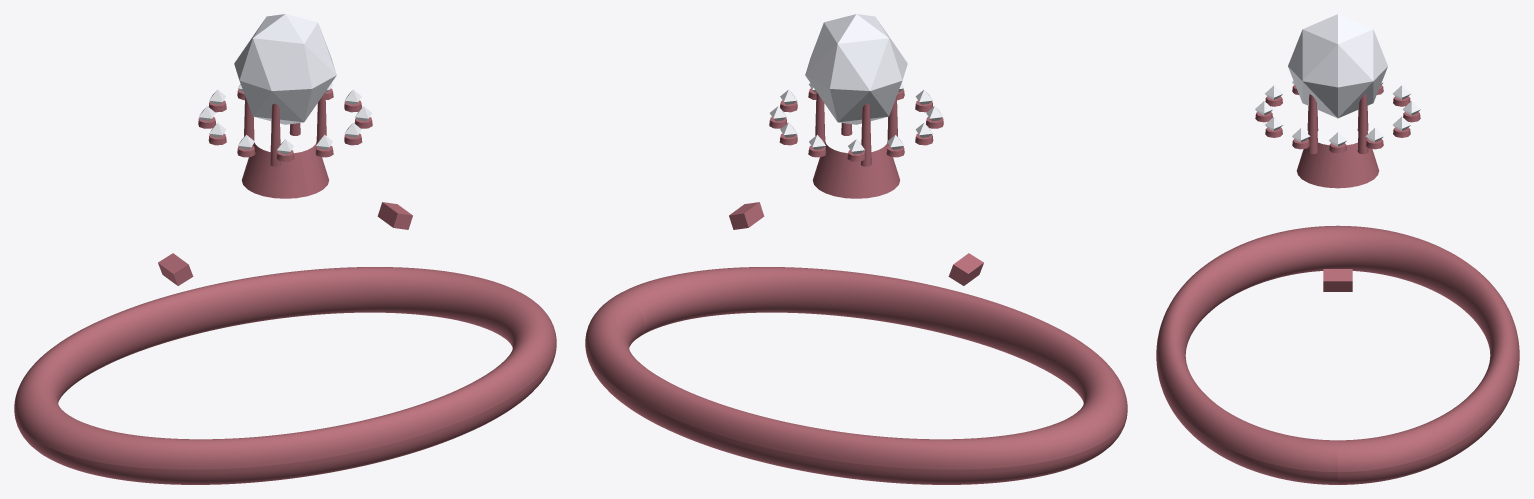
Rendered from ring-halo.glb.
The picture shows the model from 3 angles, left to right: view 1: azimuth 30°, elevation 25°; view 2: azimuth 150°, elevation 25°; view 3: azimuth 270°, elevation 25°; orthographic projection. The views are drawn at different scales.
Size of the model in its own units: 1.87 by 1.35 by 1.23.
